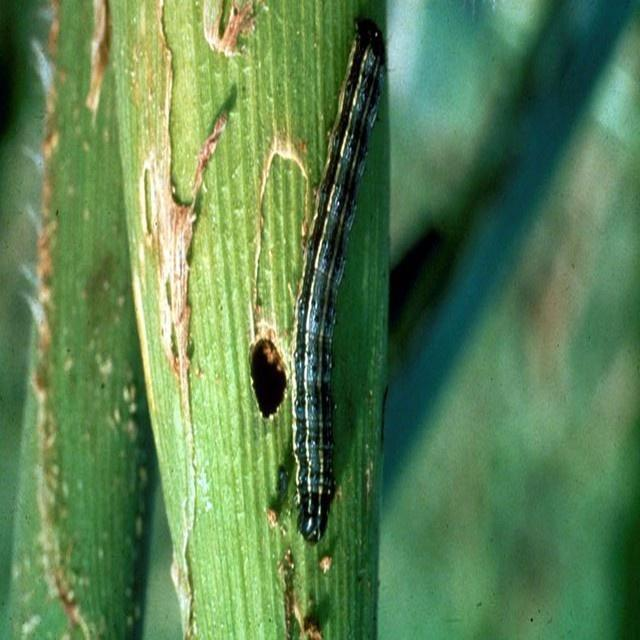gusano_cogollero: (286, 12, 392, 550)
